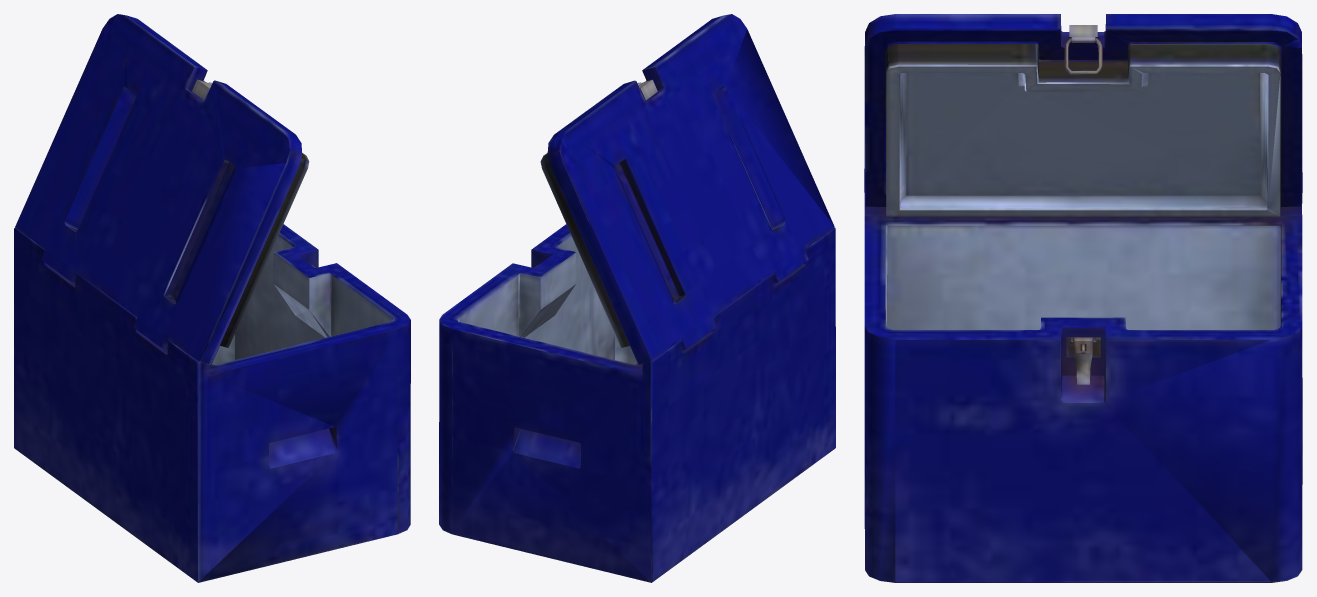
The model's file is cooler_box.glb.
The picture shows the model from 3 angles, left to right: view 1: azimuth 30°, elevation 25°; view 2: azimuth 150°, elevation 25°; view 3: azimuth 270°, elevation 25°; orthographic projection. The views are drawn at different scales.
Visible parts, largest first — view 1: cooler_box; view 2: cooler_box; view 3: cooler_box.
Part boxes in pixels (<box>): cooler_box: <box>14,14,410,582</box>; cooler_box: <box>439,14,835,582</box>; cooler_box: <box>864,14,1302,582</box>.
Size of the model in its own units: 0.2543 by 0.45 by 0.3589.
1 material, 1 textured.
